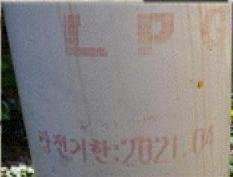cylinder: (1, 1, 233, 177)
